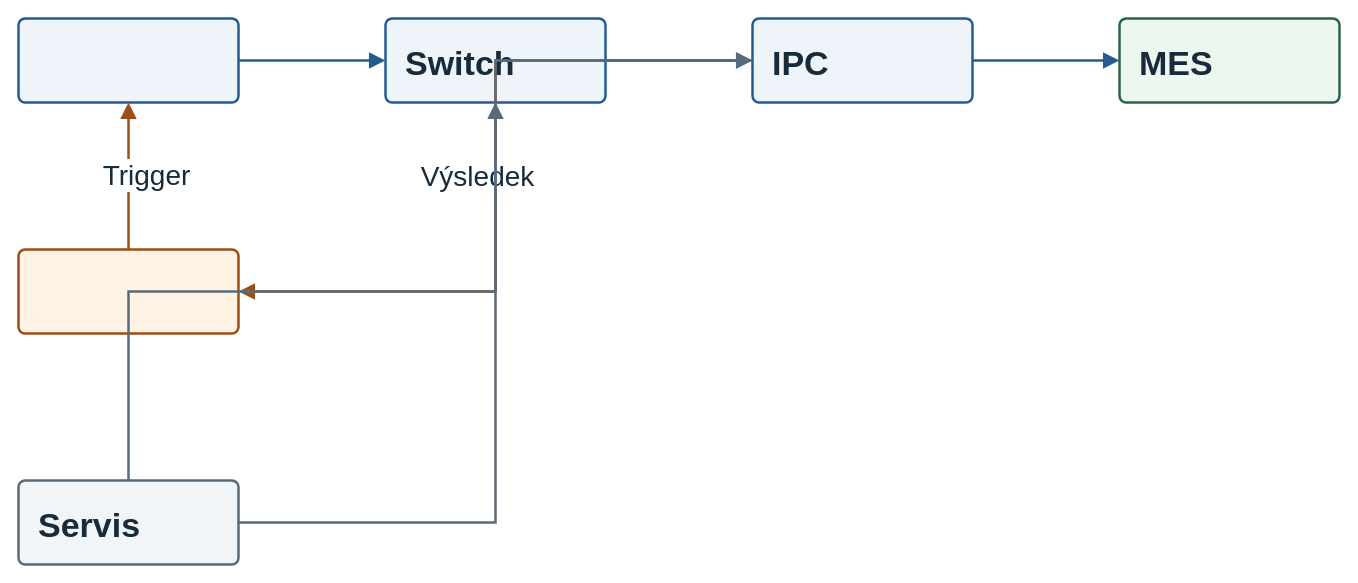
This 1358x583 diagram has some shape labels left out. Each missing label, with the box of its shape:
Kamera: (17, 17, 239, 103)
PLC: (17, 248, 239, 334)
